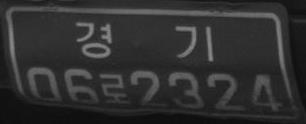0: (25, 65, 63, 102)
2: (206, 71, 246, 113), (130, 69, 166, 108)
3: (168, 70, 205, 110)
4: (250, 73, 283, 112)
6: (64, 67, 99, 105)
경기_D: (75, 21, 215, 63)
로: (100, 72, 131, 104)
